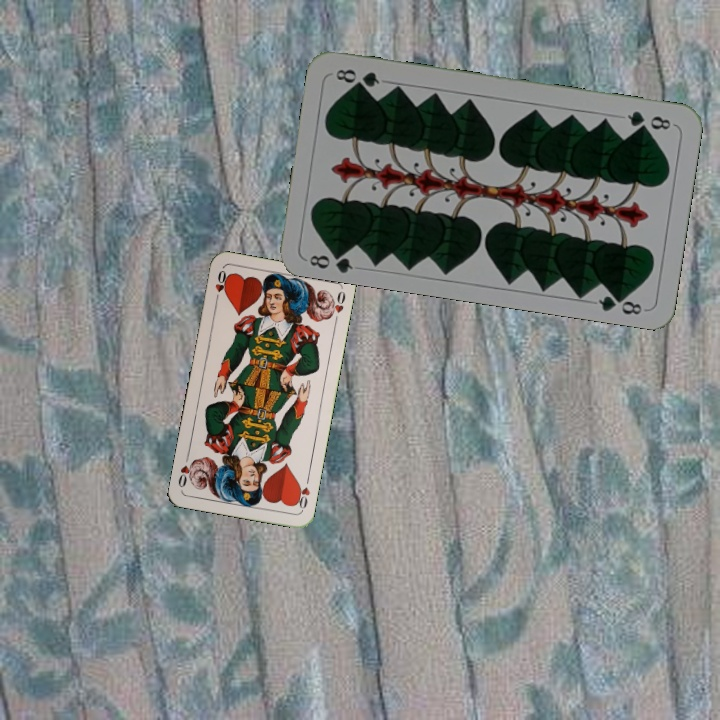G8: (305, 245, 356, 275), (623, 106, 674, 133)
HO: (291, 473, 313, 513), (211, 266, 230, 306)
